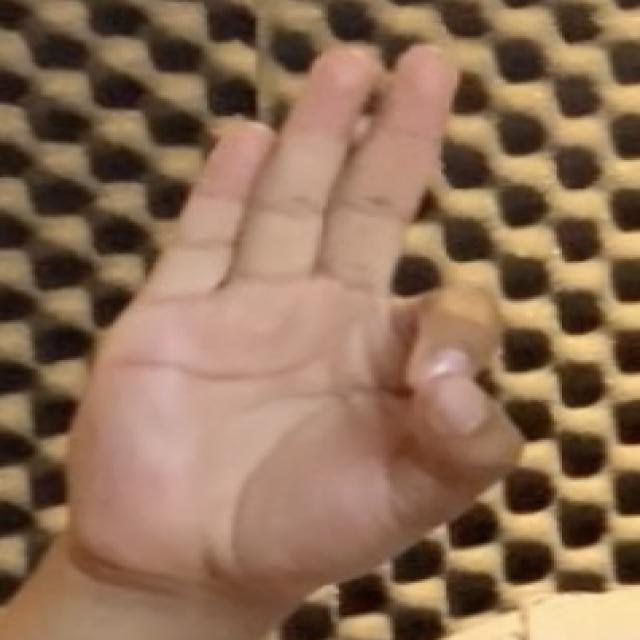F: (58, 30, 540, 569)
